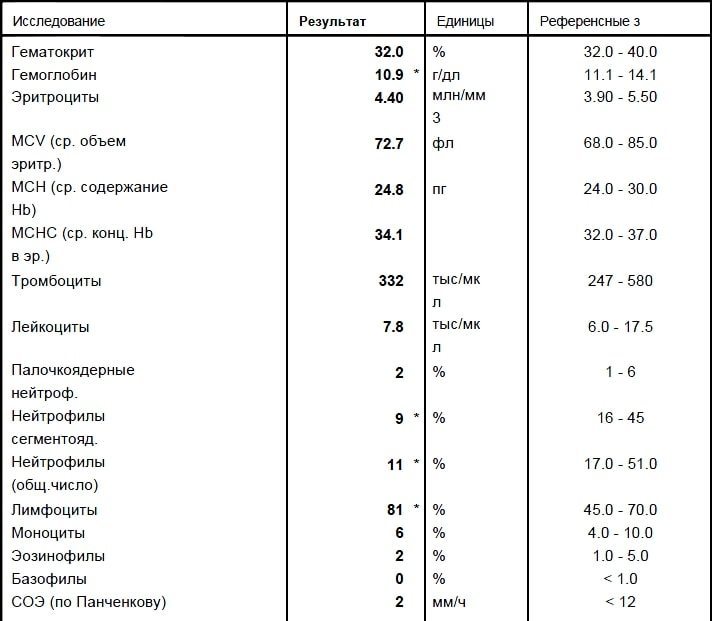column: (10, 0, 168, 621), (539, 0, 658, 621), (298, 0, 404, 621), (431, 0, 495, 621)
